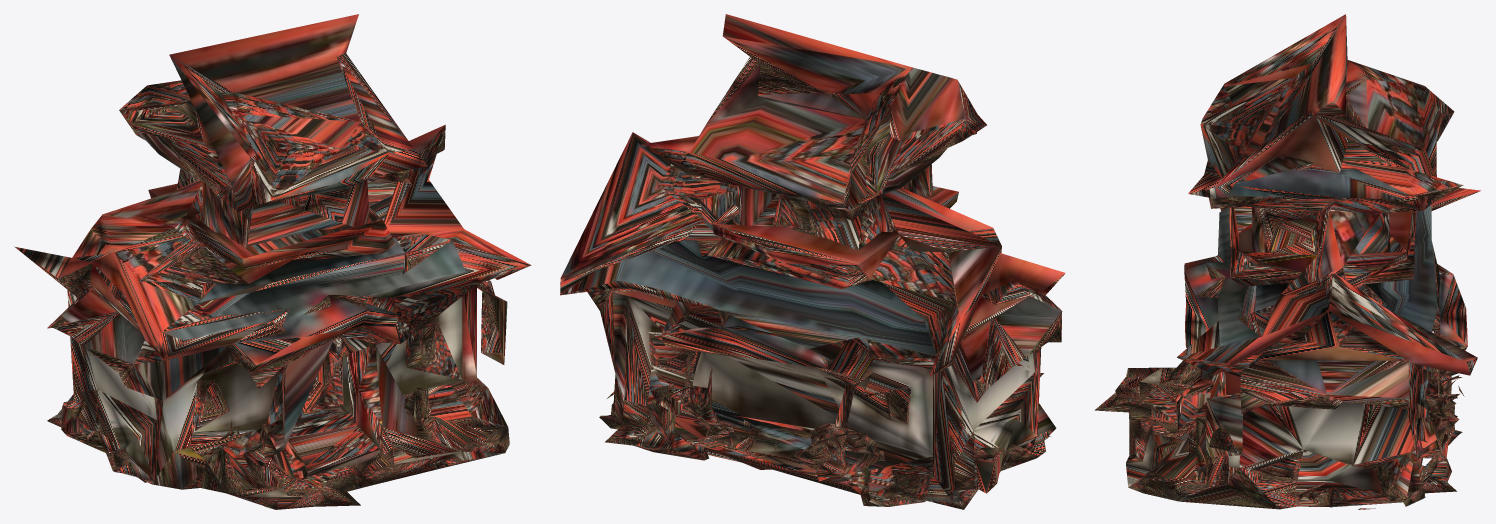
The model's file is bq_teahouse.lod2.glb.
3 renders of one model, left to right at view 1: azimuth 30°, elevation 25°; view 2: azimuth 150°, elevation 25°; view 3: azimuth 270°, elevation 25°, orthographic. The views are drawn at different scales.
Size of the model in its own units: 1.86 by 1.77 by 1.7.
Materials: 1 (1 with a texture image).
